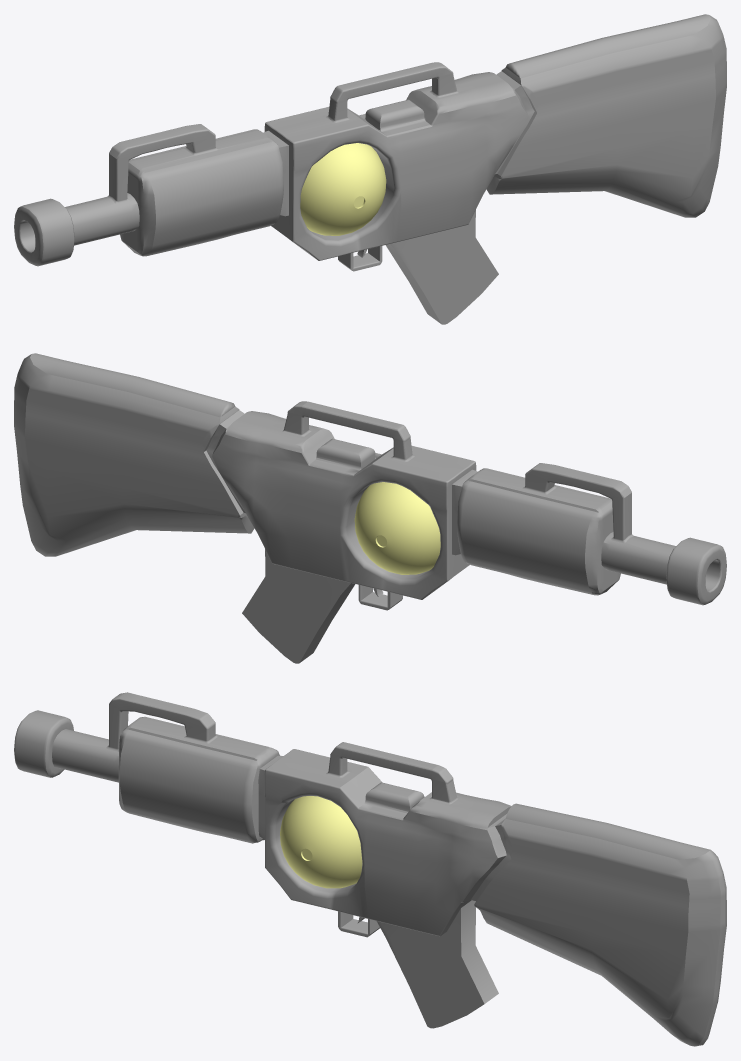
File: Rifle_Fixed.fbx
3 views of the same model, one above another, from view 1: azimuth 30°, elevation 25°; view 2: azimuth 150°, elevation 25°; view 3: azimuth 330°, elevation 25° (orthographic).
Visible parts, largest first — view 1: Stock, Mid_Rifle, Front_Gun, Bottom, Battery, Handles1, End_Barrel, Barrel, Trigger_cover; view 2: Stock, Mid_Rifle, Front_Gun, Bottom, Battery, Handles1, End_Barrel, Barrel, Trigger_cover; view 3: Stock, Mid_Rifle, Front_Gun, Bottom, Battery, Handles1, End_Barrel, Barrel, Trigger_cover.
Part boxes in pixels (x1,y1,x2,y2): Stock: (486,14,726,217); Mid_Rifle: (263,71,534,260); Front_Gun: (120,129,283,256); Bottom: (385,210,498,324); Battery: (300,143,386,235); Handles1: (107,62,458,204); End_Barrel: (14,198,74,266); Barrel: (21,193,139,251); Trigger_cover: (338,246,382,271); Stock: (14,353,254,556); Mid_Rifle: (206,410,477,599); Front_Gun: (457,468,620,595); Bottom: (242,549,355,663); Battery: (354,482,440,574); Handles1: (282,401,633,543); End_Barrel: (666,537,726,605); Barrel: (601,532,719,590); Trigger_cover: (358,585,402,610); Stock: (474,803,726,1046); Mid_Rifle: (258,749,511,936); Front_Gun: (118,716,279,843); Bottom: (376,900,498,1028); Battery: (280,796,362,888); Handles1: (106,692,458,804); End_Barrel: (14,710,73,777); Barrel: (52,729,118,782); Trigger_cover: (338,911,379,937).
Bounding box in the file's own units: 1505 × 526 × 197.
